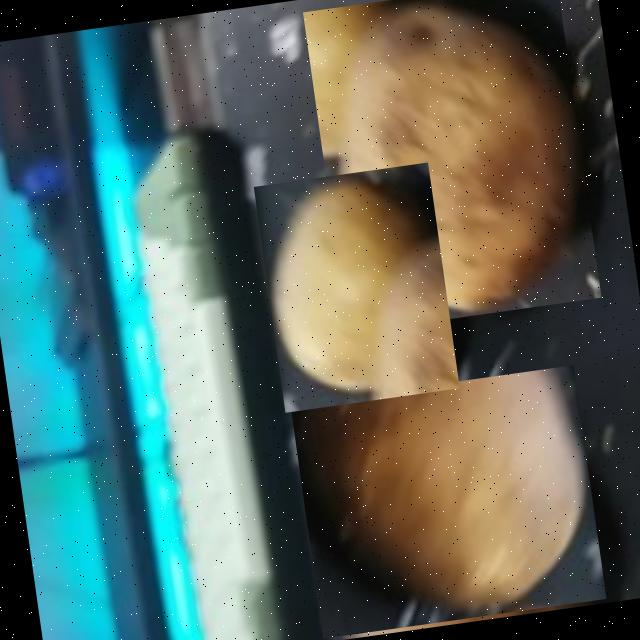Damaged potato: (302, 0, 601, 333), (290, 365, 606, 639)
Potato: (253, 162, 459, 412)
